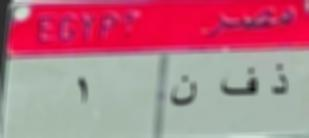1: (74, 73, 93, 107)
faa: (220, 67, 262, 104)
noon: (169, 74, 200, 108)
zaal: (269, 60, 291, 101)
